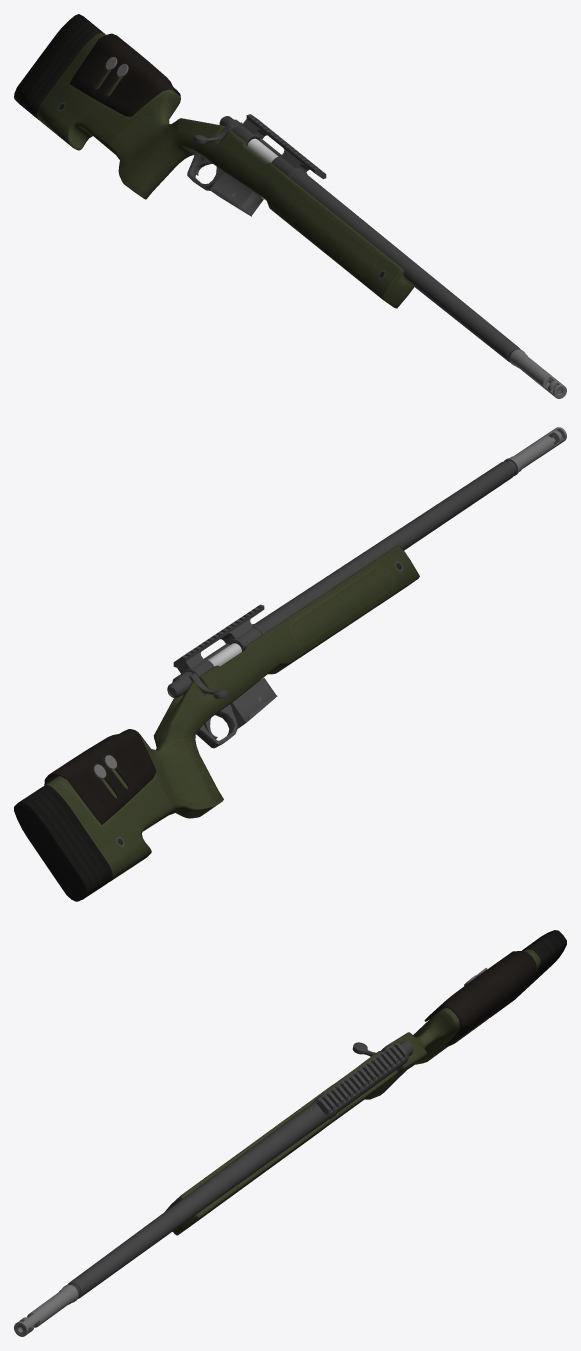
3 renders of one model, top to bottom at view 1: azimuth 30°, elevation 25°; view 2: azimuth 150°, elevation 25°; view 3: azimuth 330°, elevation 25°, orthographic. The views are drawn at different scales.
Parts seen in each view (by area): view 1: O_m40a5__Body3, O_m40a5__Body, O_m40a5__Body2; view 2: O_m40a5__Body3, O_m40a5__Body, O_m40a5__Body2; view 3: O_m40a5__Body2, O_m40a5__Body3, O_m40a5__Body.
Part boxes in pixels (x1,y1,x2,y2): O_m40a5__Body3: (14,14,413,308); O_m40a5__Body: (69,33,326,216); O_m40a5__Body2: (194,116,566,398); O_m40a5__Body3: (14,545,419,901); O_m40a5__Body: (44,604,277,824); O_m40a5__Body2: (167,427,566,698); O_m40a5__Body2: (14,1041,413,1336); O_m40a5__Body3: (165,930,566,1235); O_m40a5__Body: (316,951,536,1114).
Bounding box in the file's own units: 0.3194 × 0.3473 × 3.15.
3 materials, 3 textured.
